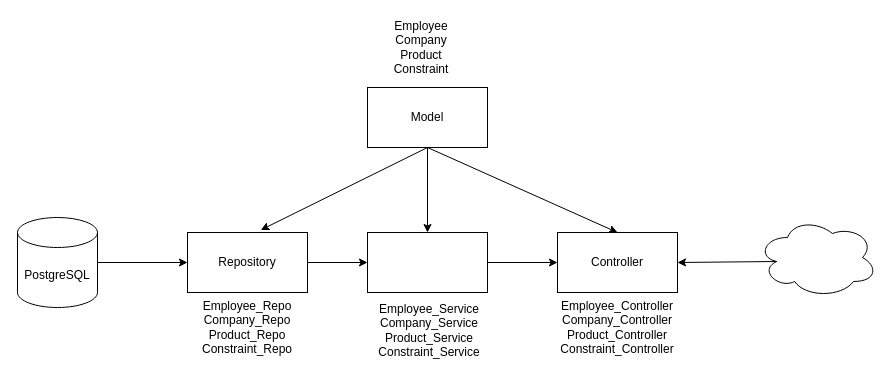
Some shapes in this 895 by 376 pixel diagram are drawn without their labels. The shapes that lost their labels are listed below. From the top down, each one's box as (x1, y1, x2, y2) in pixels, then its label:
(366, 232, 488, 292): Service
(756, 216, 878, 298): REST
